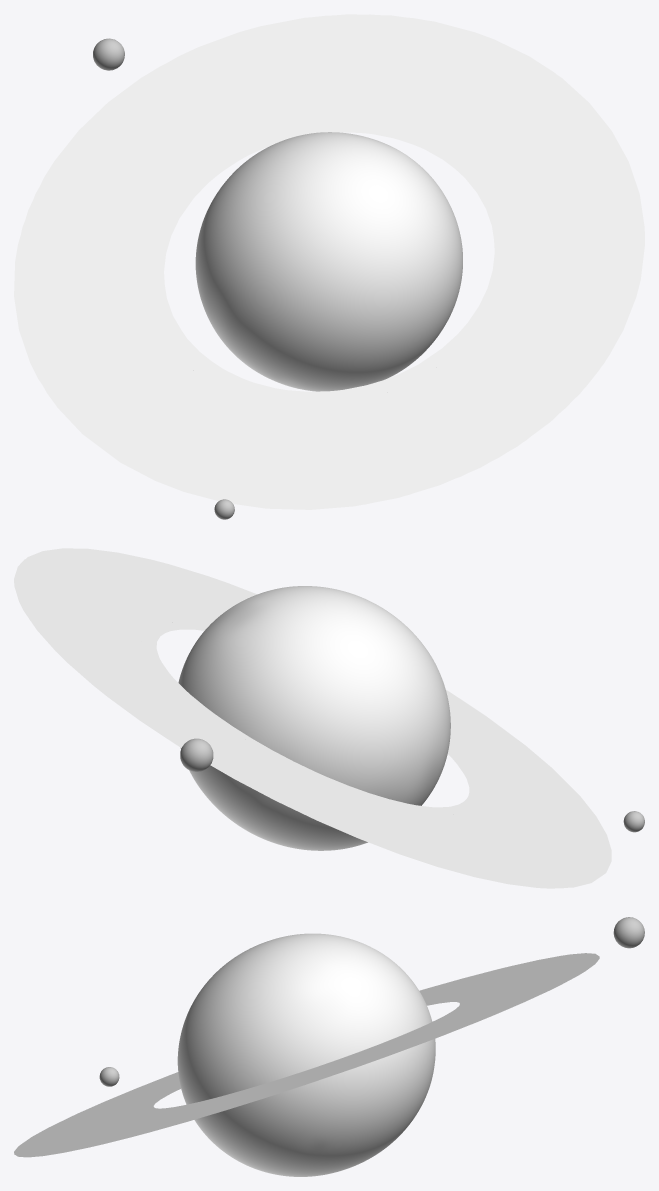
The model's file is saturn.glb.
The picture shows the model from 3 angles, top to bottom: view 1: azimuth 30°, elevation 25°; view 2: azimuth 150°, elevation 25°; view 3: azimuth 270°, elevation 25°; orthographic projection. The views are drawn at different scales.
Parts seen in each view (by area): view 1: Saturn2_B, Saturn1_A, Mimas; view 2: Saturn2_B, Saturn1_A, Mimas; view 3: Saturn1_A, Saturn2_B, Mimas.
Boxes of the visible parts, x1,y1,x2,y2 form: Saturn2_B: [14, 14, 644, 509]; Saturn1_A: [195, 132, 462, 391]; Mimas: [93, 38, 124, 70]; Saturn2_B: [14, 548, 611, 888]; Saturn1_A: [178, 586, 450, 850]; Mimas: [180, 738, 213, 771]; Saturn1_A: [177, 933, 435, 1176]; Saturn2_B: [14, 953, 599, 1157]; Mimas: [613, 917, 644, 948].
Bounding box in the file's own units: 27.12 × 13 × 29.22.
5 materials, 1 textured.
